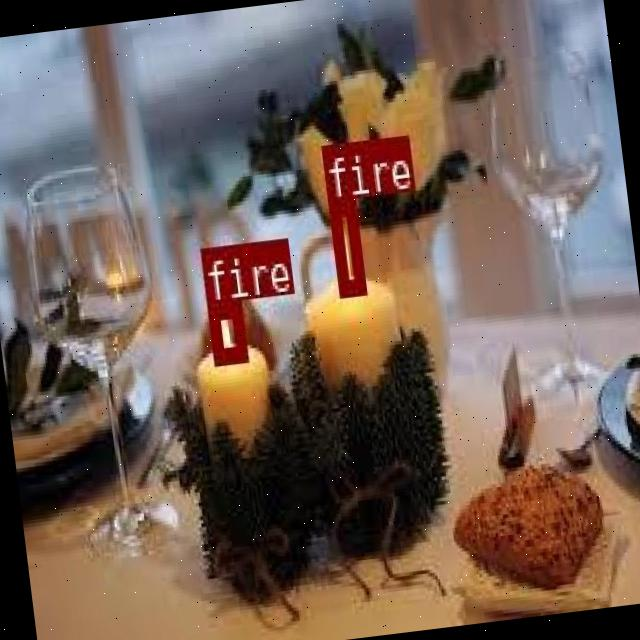fire: (328, 198, 363, 294), (207, 297, 245, 361)
